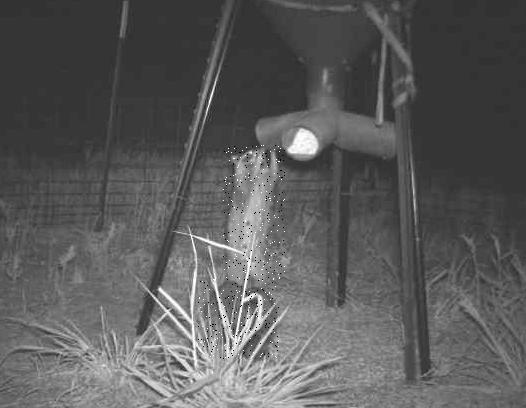Raccoon: (224, 146, 286, 291), (199, 279, 280, 359)
